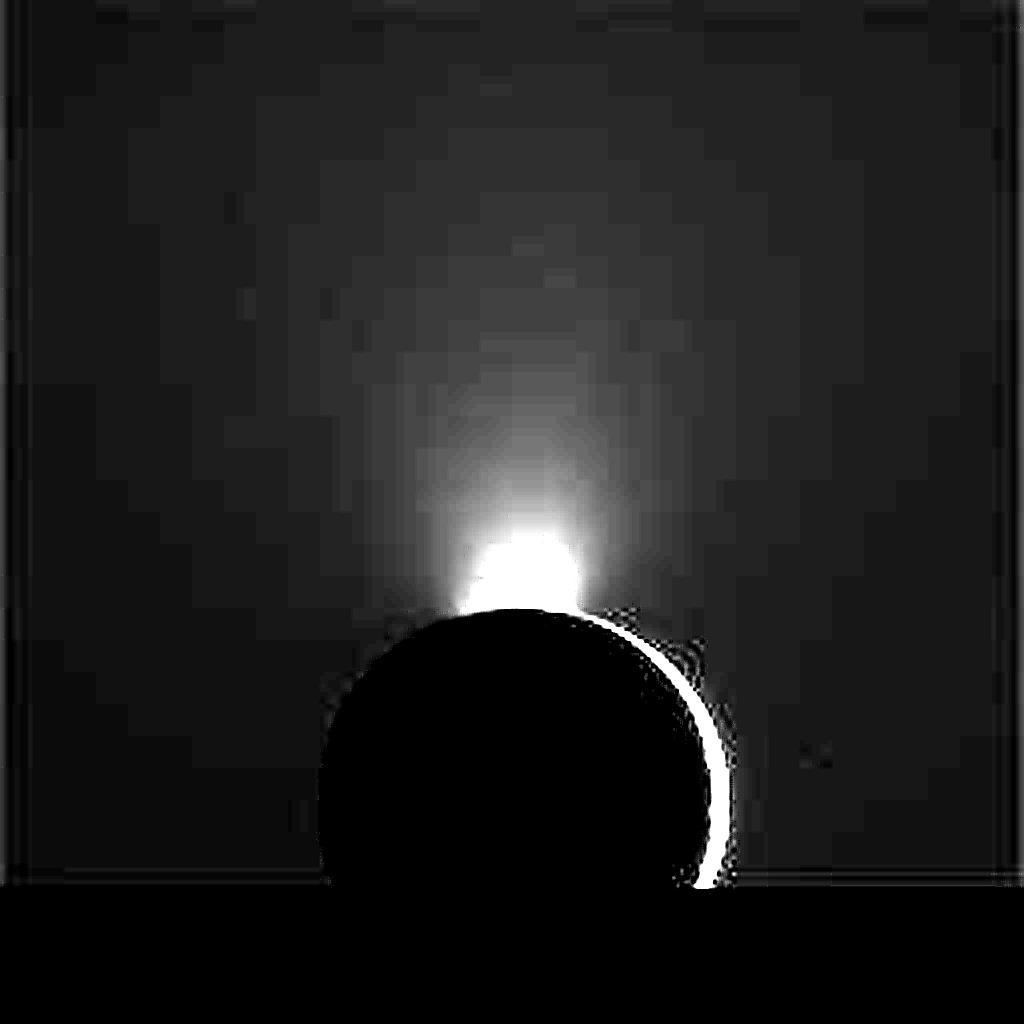plumes: (456, 532, 580, 615)
